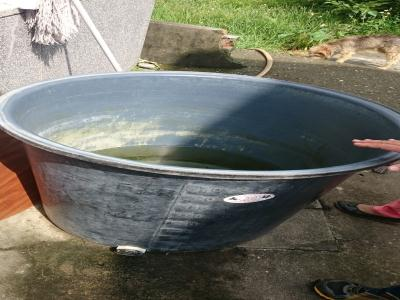bucket: (7, 63, 398, 262)
